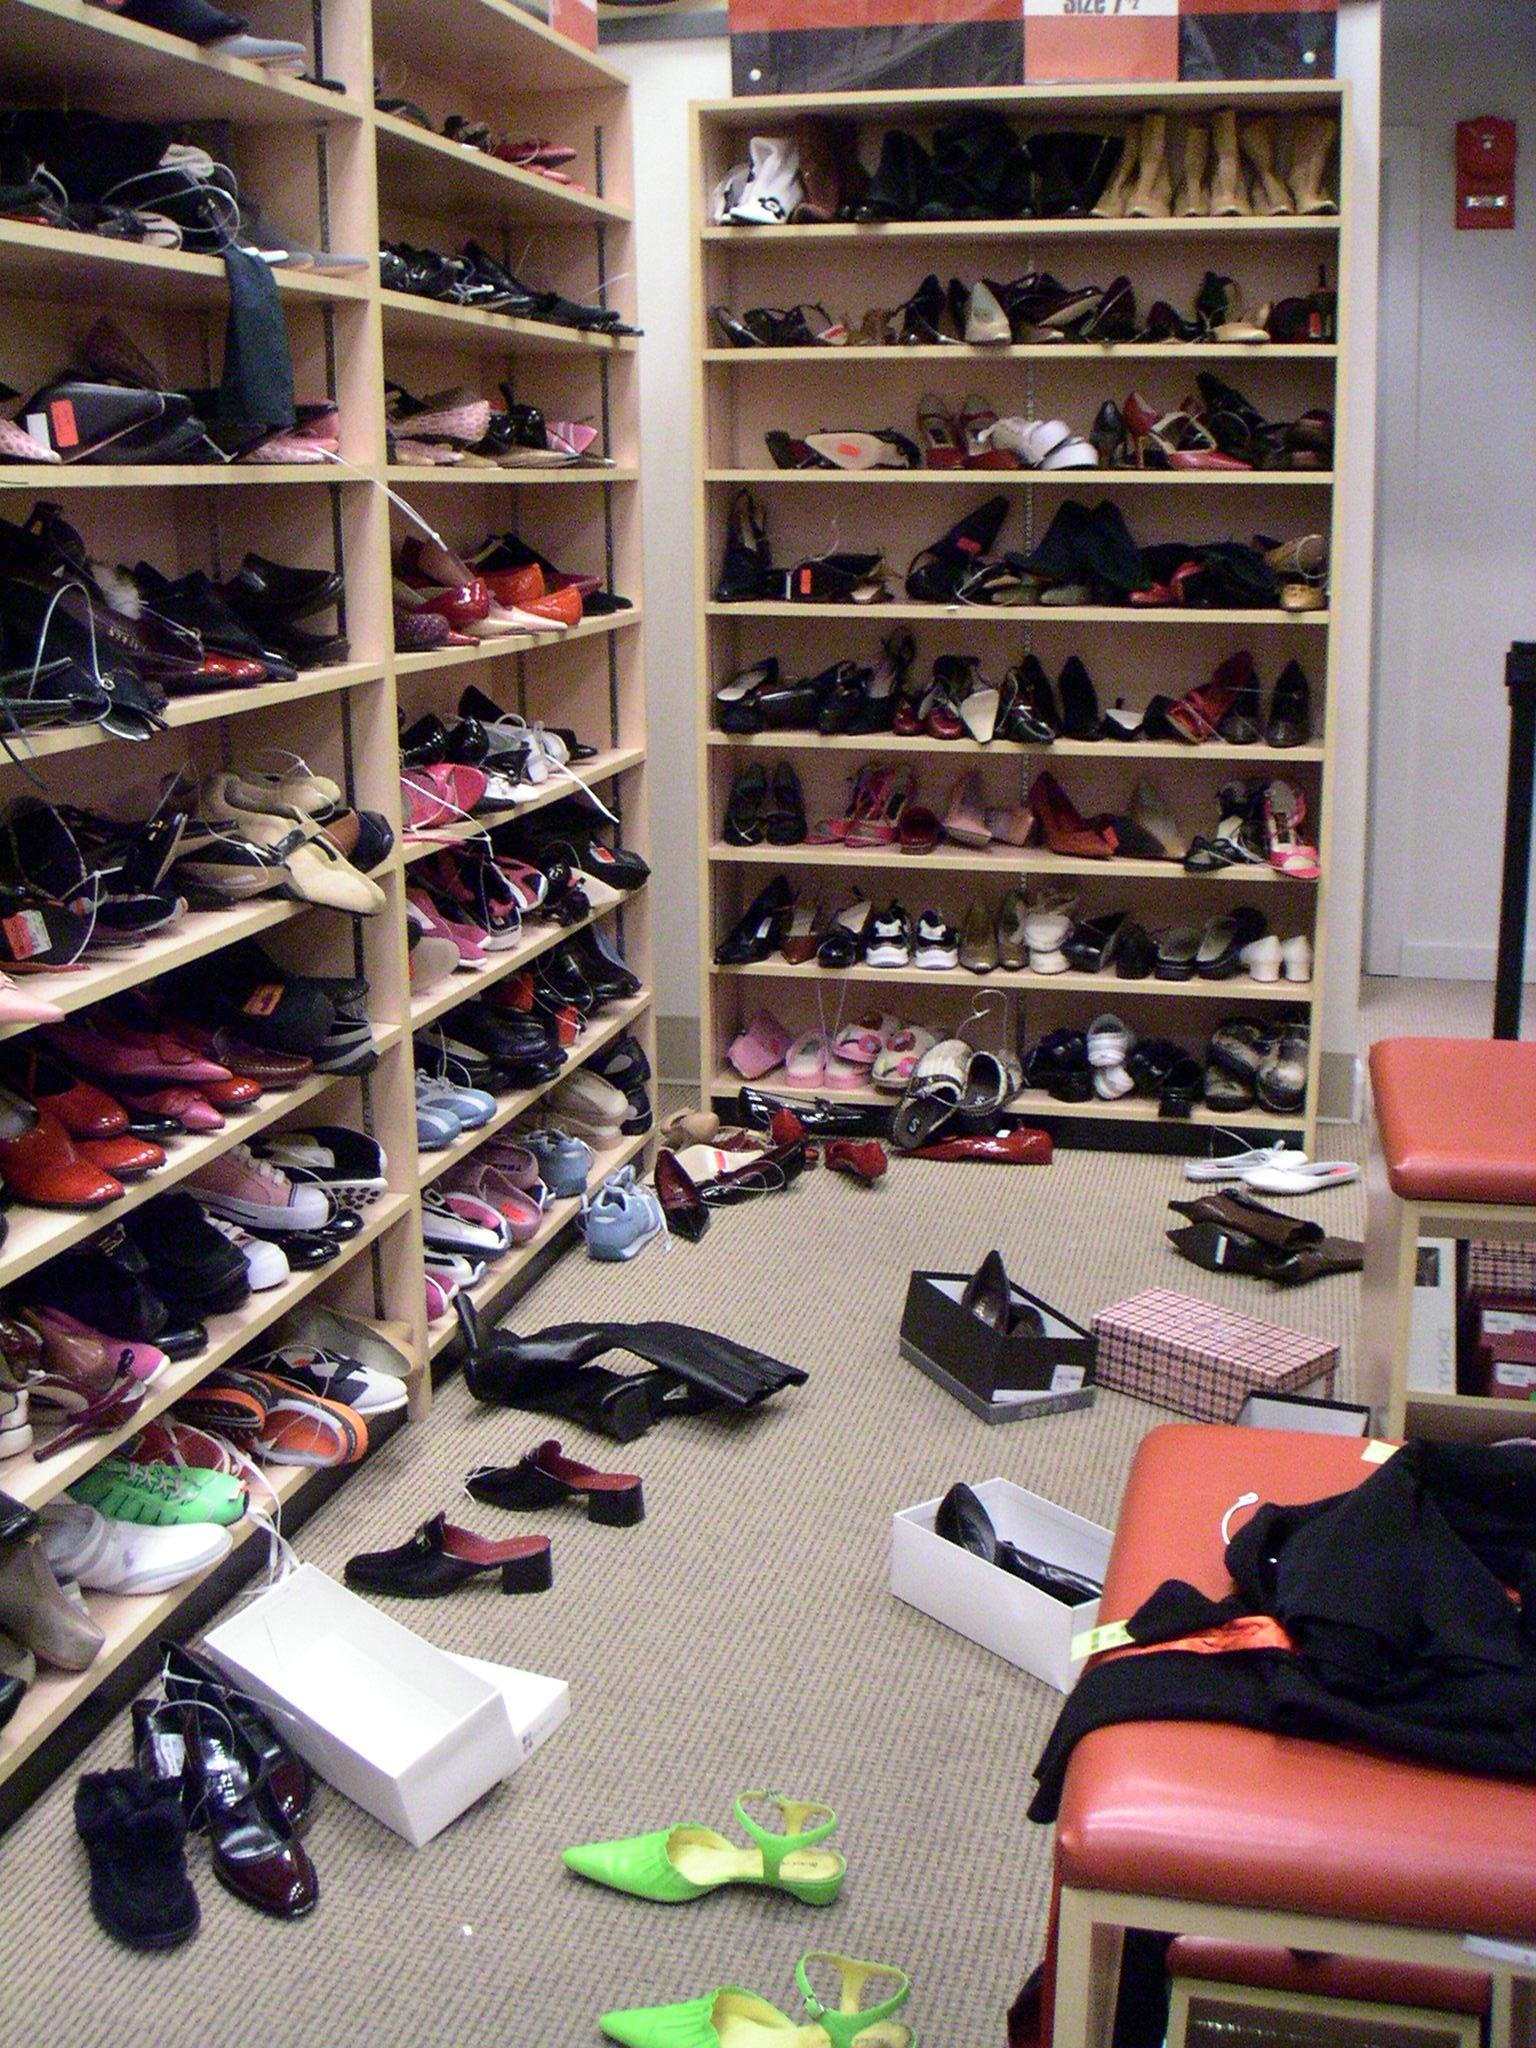Rak: (0, 3, 660, 1795), (682, 76, 1354, 1159)
